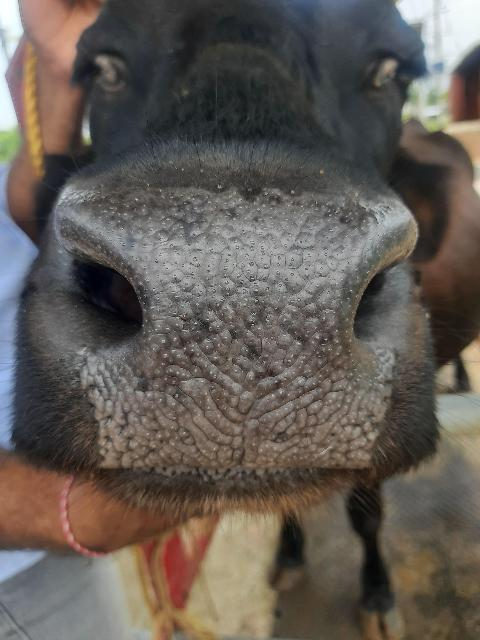Muzzle: (90, 199, 374, 471)
